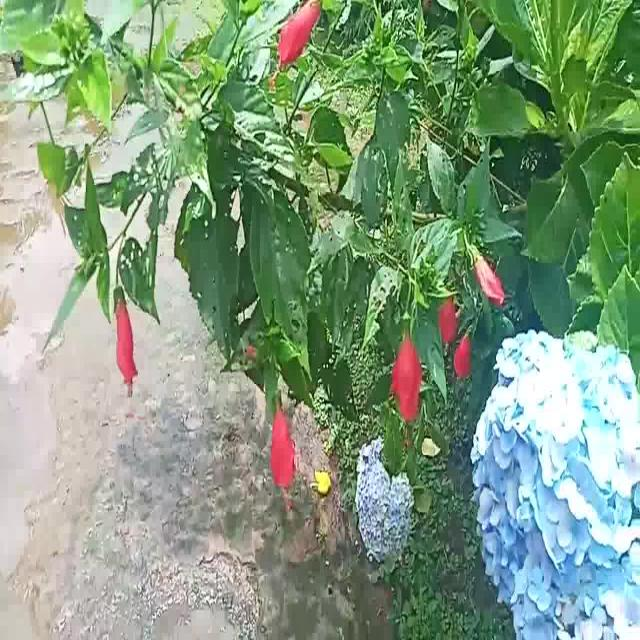Flower: (471, 324, 640, 640), (353, 435, 418, 559), (266, 397, 303, 512), (275, 5, 335, 68), (109, 284, 142, 394), (468, 239, 508, 309), (399, 340, 421, 426)
